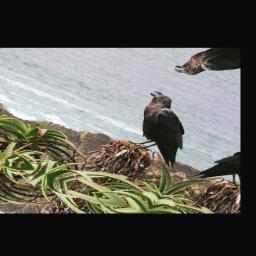Crow: (101, 87, 224, 170)
